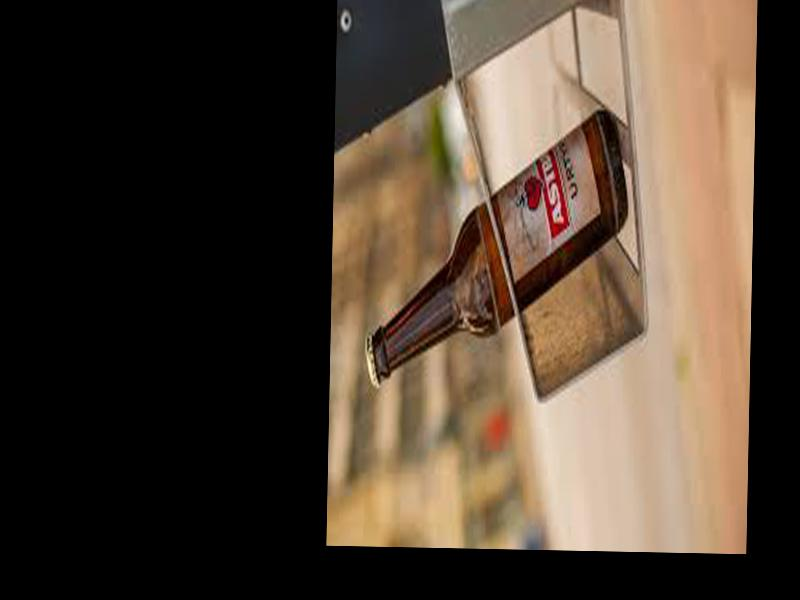Beer: (363, 102, 630, 395)
